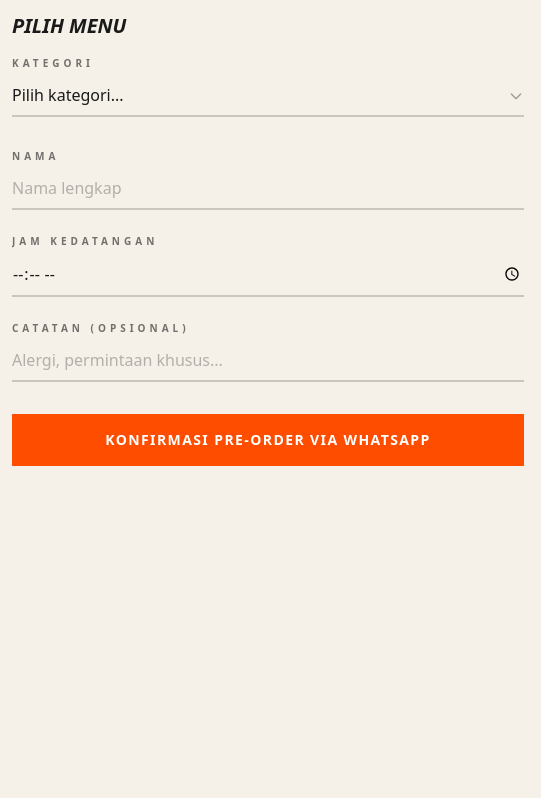
Test: PreorderForm › can add and remove items
The width and height of the screenshot is (541, 798).
Select "Coffee" in the dropdown showing "Pilih kategori..." at (268, 96), box x1=12 y1=75 x2=524 y2=117
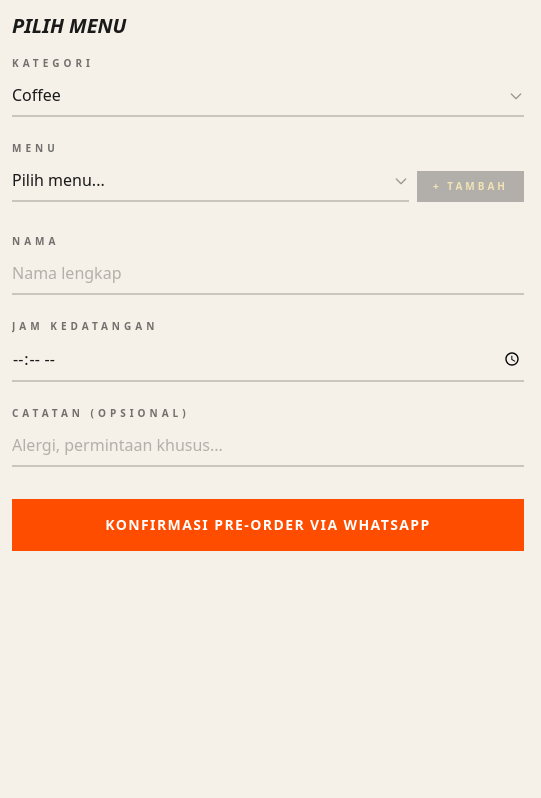
Select "Espresso — Rp 20.000" in the 2nd dropdown showing "Pilih menu..." at (210, 181), box x1=12 y1=160 x2=409 y2=202
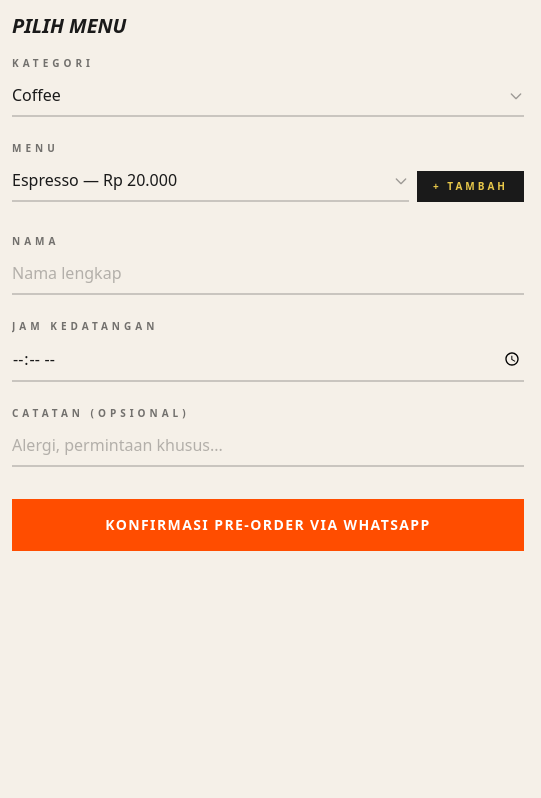
Click the button "+ Tambah".
click(470, 186)  # box x1=417 y1=171 x2=524 y2=202
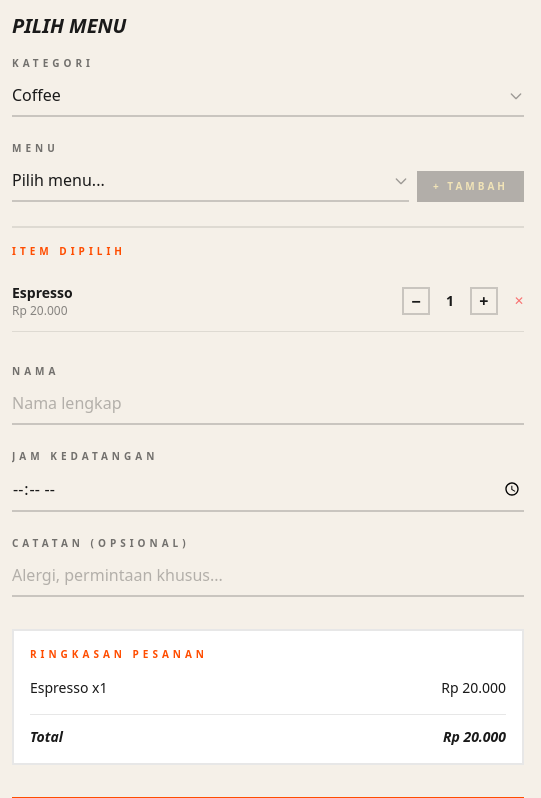
Result: the text with test id "qty-1" reads "1" at x1=446 y1=291 x2=454 y2=310
Click the button with test id "remove-item-1".
click(519, 301)  # box x1=514 y1=293 x2=524 y2=309
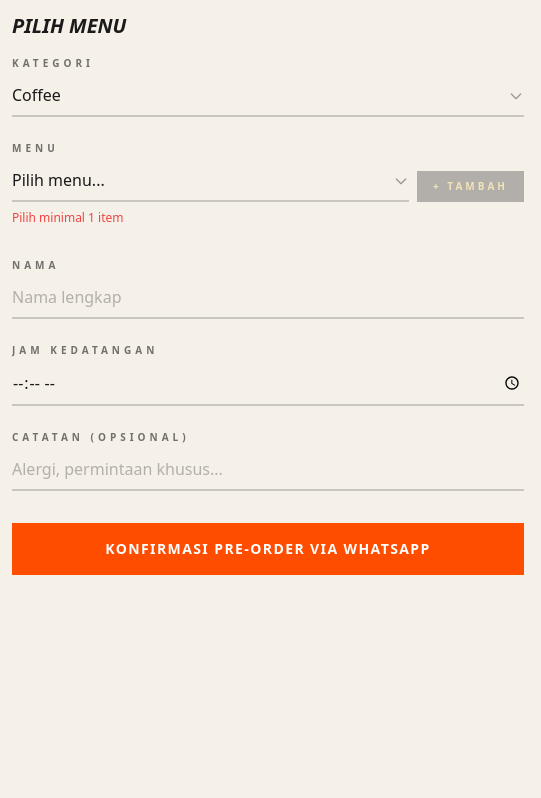
Result: the text with test id "qty-1" is gone
